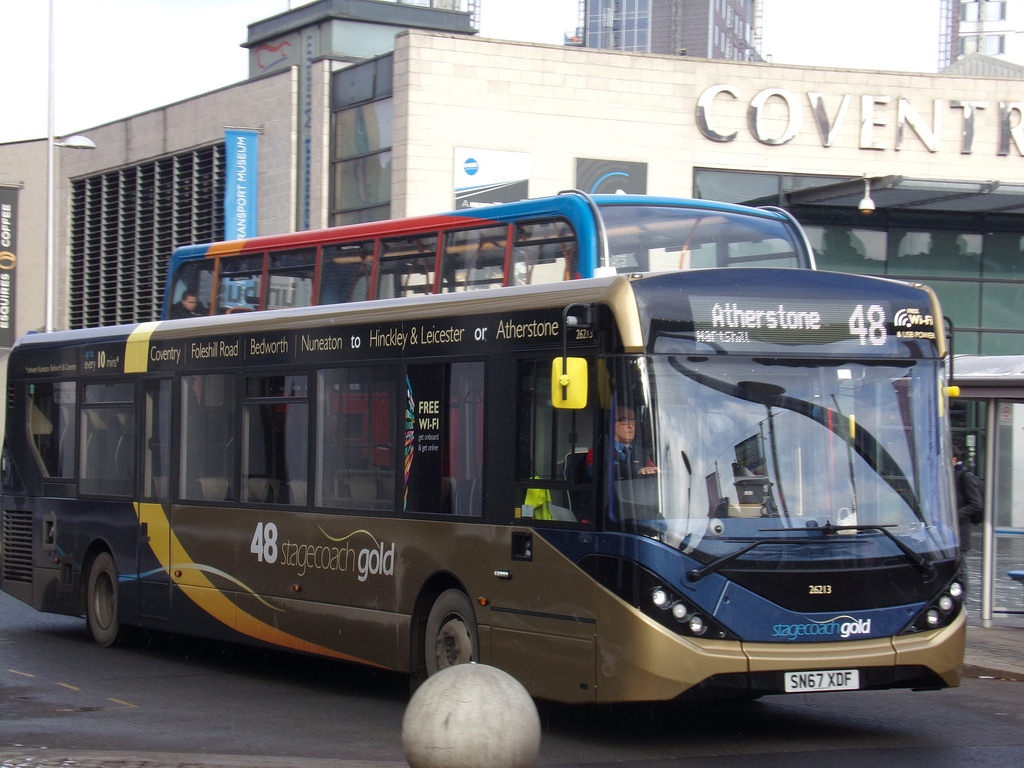bus: (4, 304, 994, 724)
